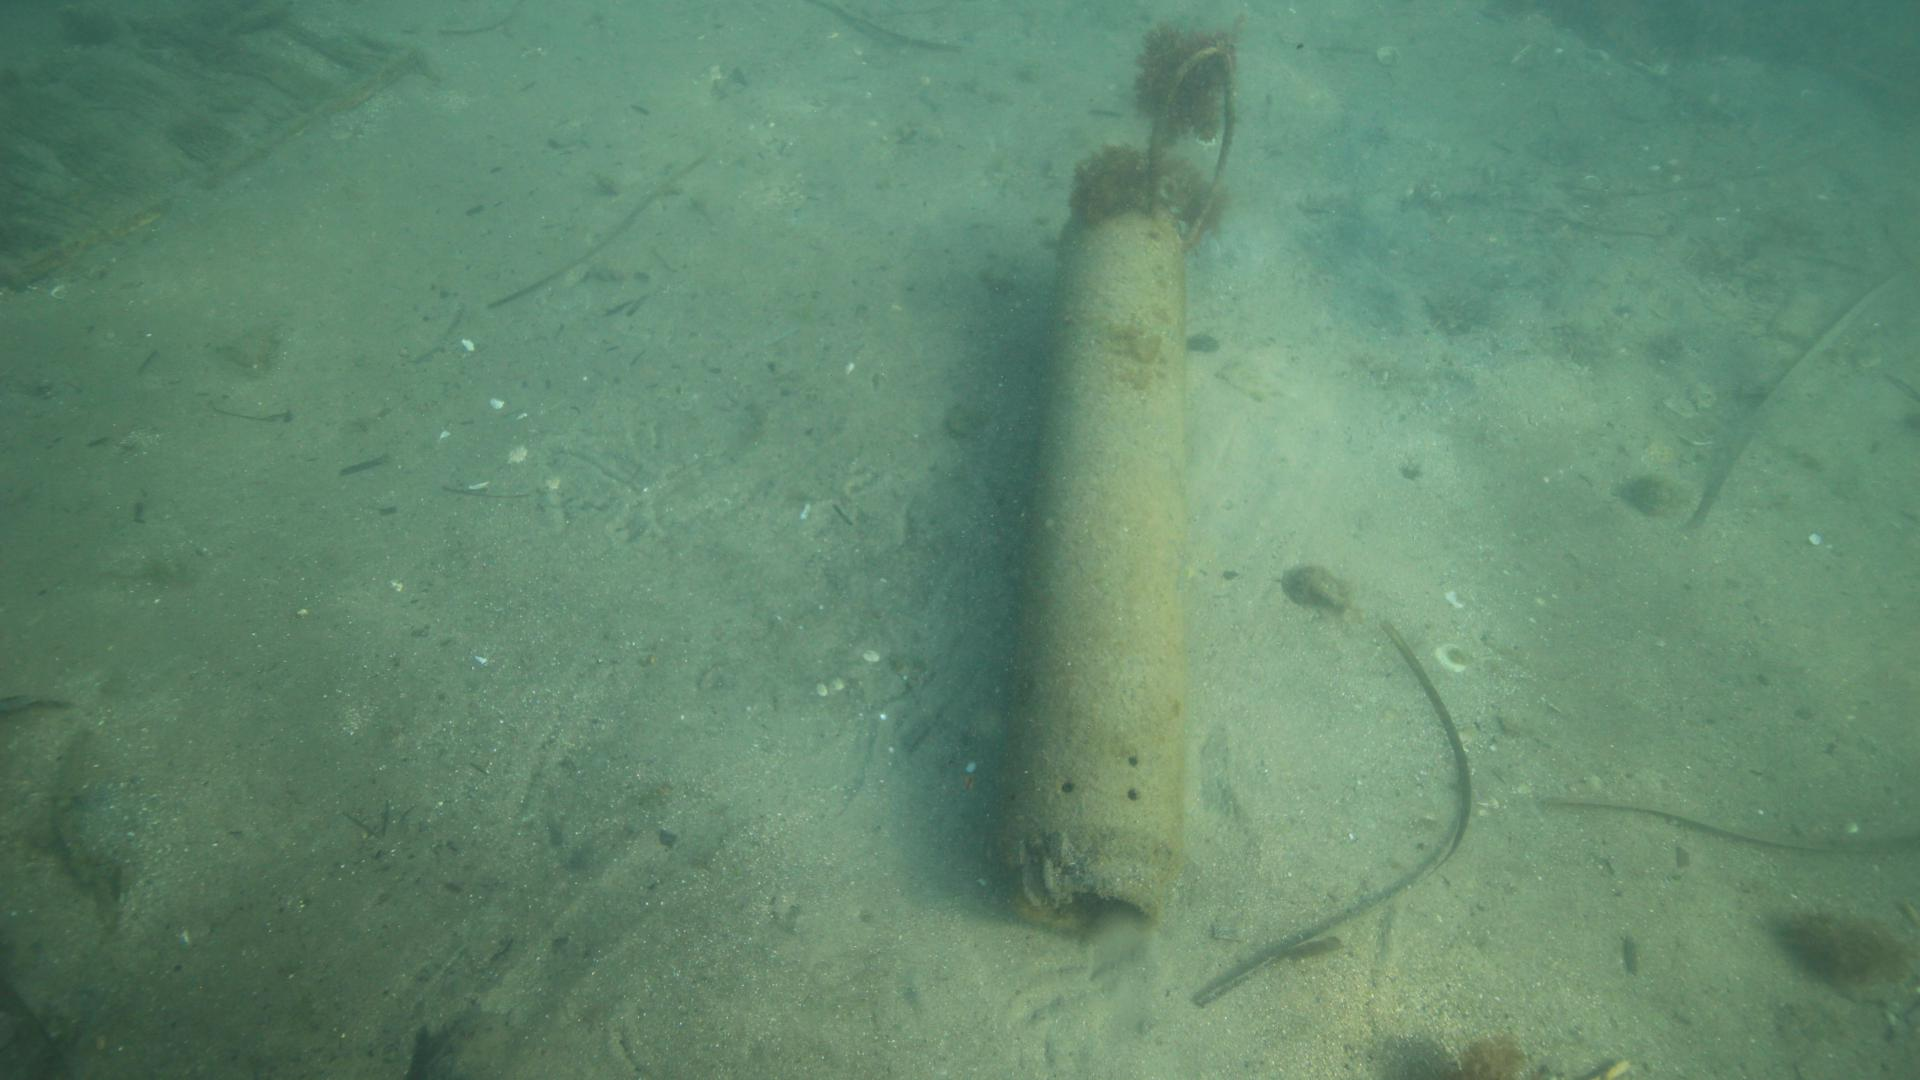bundle of ropes: (1139, 37, 1245, 229)
eel fish trap: (1005, 179, 1207, 930)
